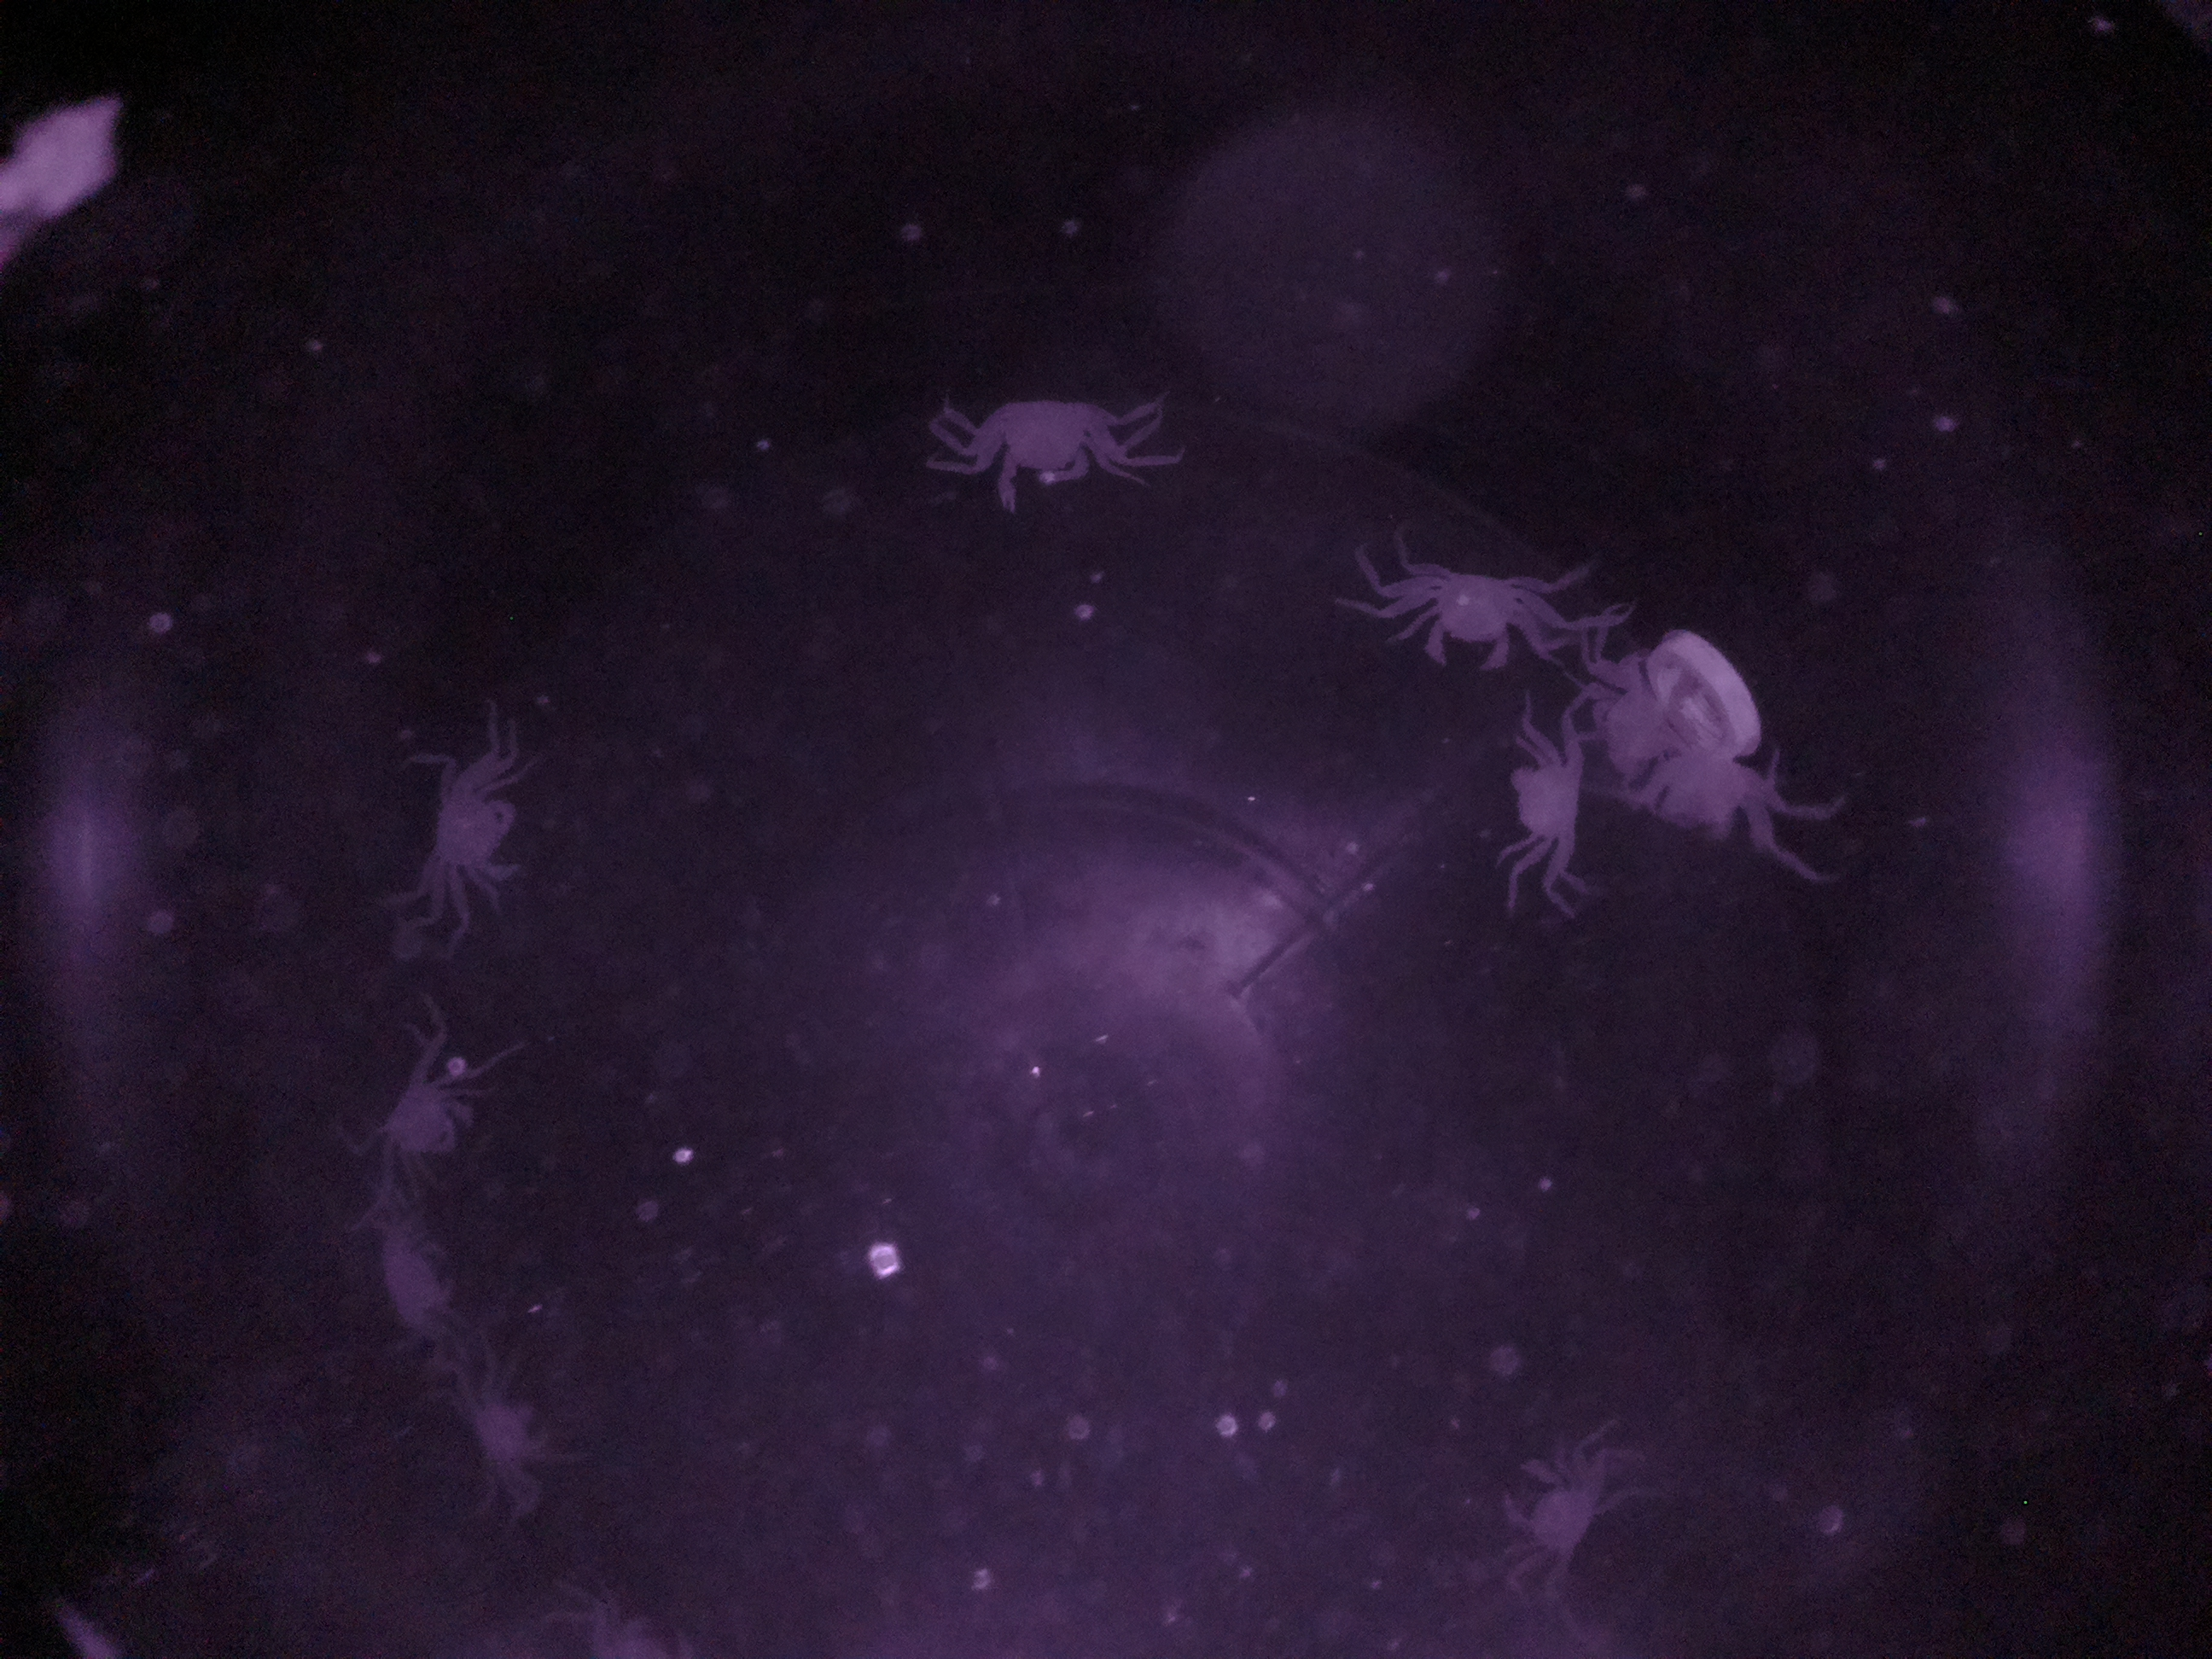Crab: (916, 366, 1151, 519), (1360, 511, 1543, 694), (394, 728, 542, 931), (1477, 1415, 1622, 1589), (1491, 711, 1611, 913)
